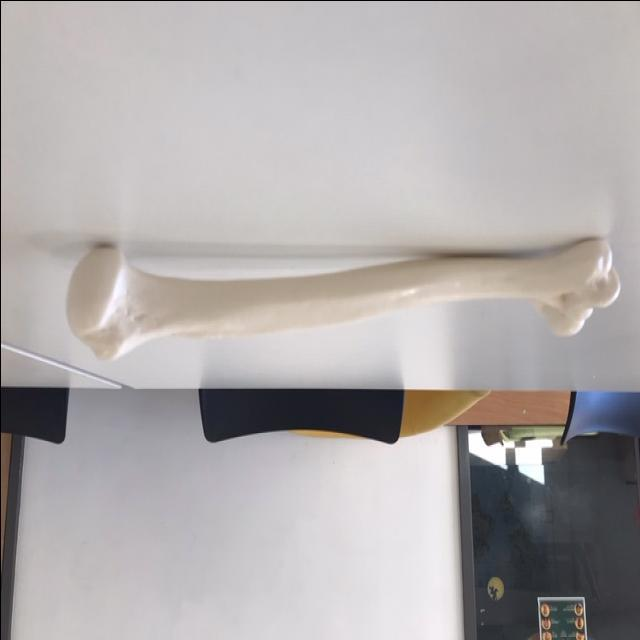bone: (61, 220, 615, 367)
